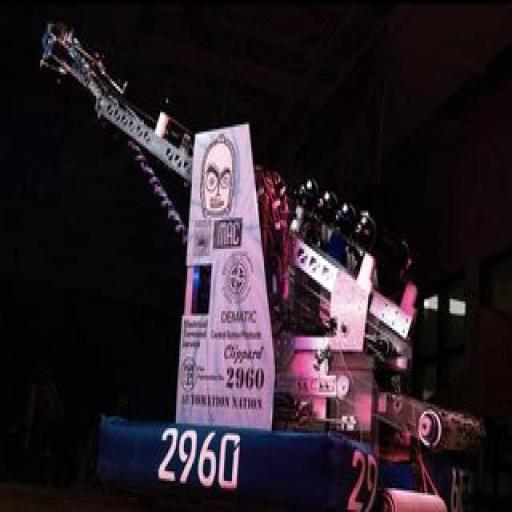robot: (31, 12, 492, 510)
